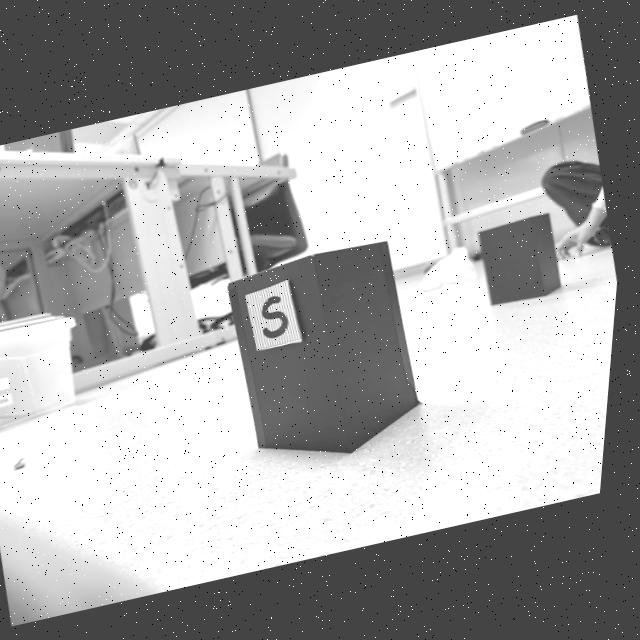S: (266, 295, 293, 337)
